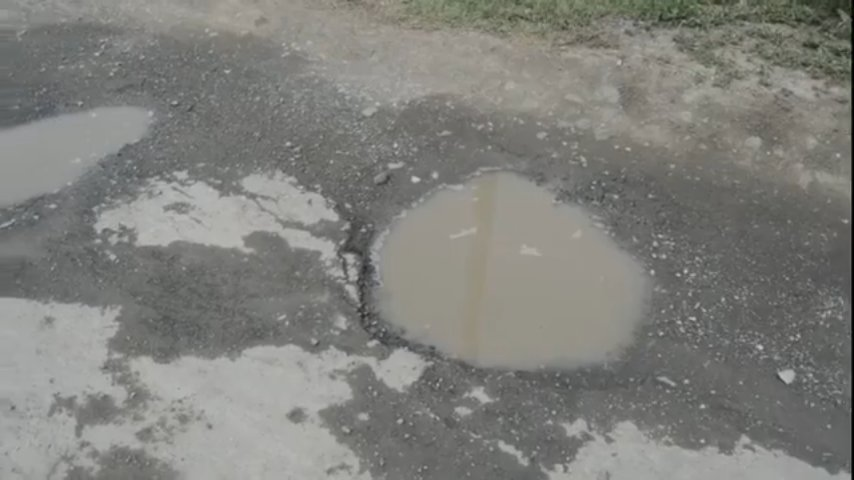pothole: (355, 67, 854, 262), (355, 145, 667, 395)
